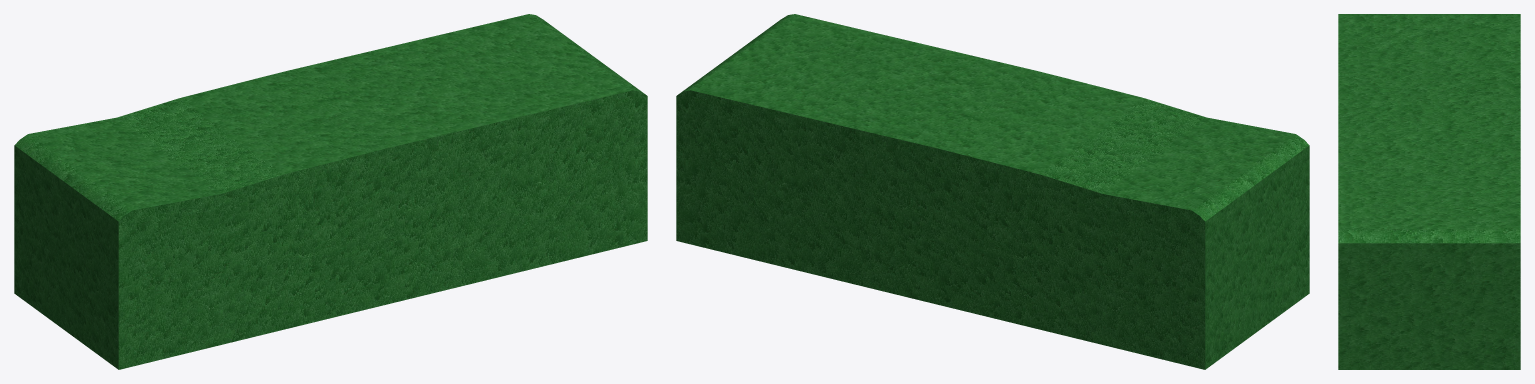
File: Hill_3 - Transition to puzzle 2.fbx
The picture shows the model from 3 angles, left to right: view 1: azimuth 30°, elevation 25°; view 2: azimuth 150°, elevation 25°; view 3: azimuth 270°, elevation 25°; orthographic projection. The views are drawn at different scales.
Parts seen in each view (by area): view 1: pCube2; view 2: pCube2; view 3: pCube2.
Boxes of the visible parts, box(x1,y1,x2,y2) form: pCube2: box(14, 14, 647, 369); pCube2: box(676, 14, 1309, 369); pCube2: box(1338, 14, 1520, 369).
Bounding box in the file's own units: 2633 × 744 × 900.
1 material, 1 textured.
